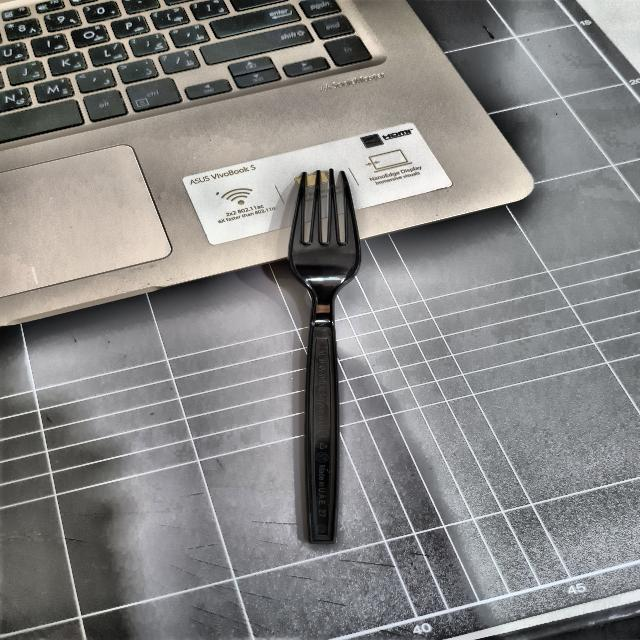plastic utensil: (274, 165, 372, 550)
